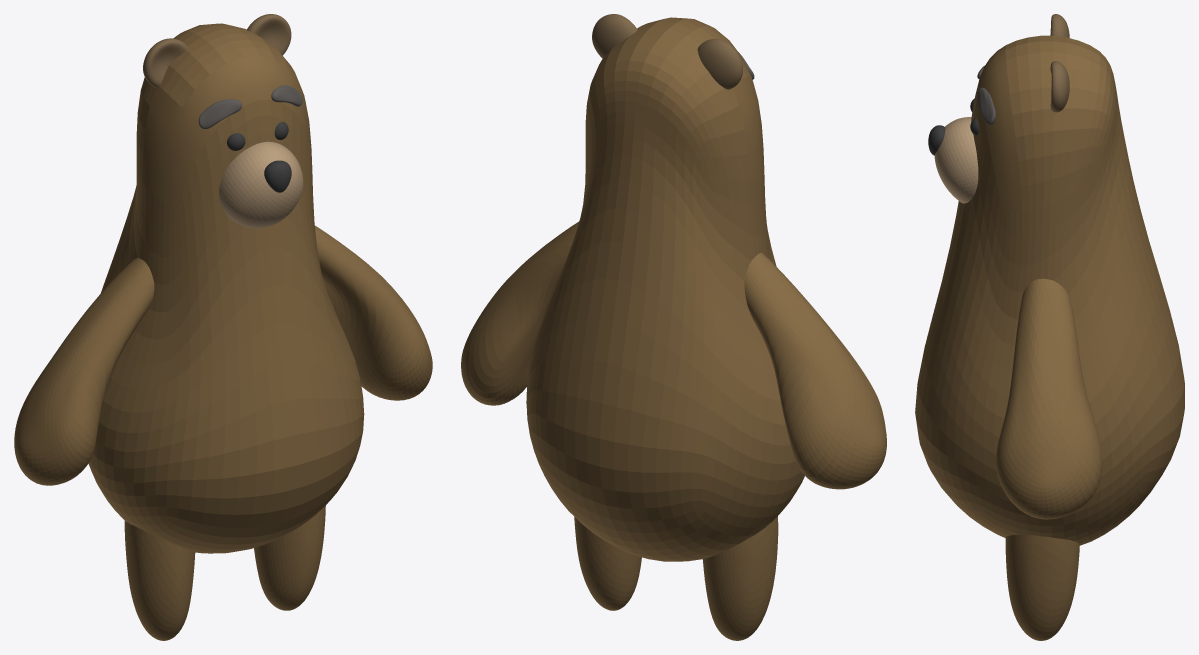
File: teddy.fbx
3 renders of one model, left to right at view 1: azimuth 30°, elevation 25°; view 2: azimuth 150°, elevation 25°; view 3: azimuth 270°, elevation 25°, orthographic. The views are drawn at different scales.
Parts seen in each view (by area): view 1: Group64236, Group57685, Group57671, Group57678, Group31999, Group64237, Group57668, Group57677, Group56073, Group294, Group57679, Group57676 (+8 smaller); view 2: Group64236, Group57671, Group57685, Group57682, Group57674, Group57683, Group64237, Group57675, Group57689, Group57670, Group57681, Group57684 (+7 smaller); view 3: Group57671, Group64236, Group57685, Group57672, Group57673, Group57681, Group64237, Group57679, Group57668, Group57669, Group294, Group56073 (+11 smaller).
Boxes of the visible parts, x1,y1,x2,y2 form: Group64236: (14,225,432,485); Group57685: (88,401,362,553); Group57671: (129,79,321,400); Group57678: (223,323,340,478); Group31999: (216,203,321,360); Group64237: (124,505,325,640); Group57668: (142,55,312,209); Group57677: (132,298,225,480); Group56073: (219,141,303,228); Group294: (159,28,297,107); Group57679: (321,338,364,449); Group57676: (103,253,155,412); Group64236: (461,221,886,489); Group57671: (581,60,776,280); Group57685: (527,413,804,534); Group57682: (554,278,671,448); Group57674: (573,155,675,311); Group57683: (657,312,752,474); Group64237: (574,516,778,640); Group57675: (671,190,751,388); Group57689: (543,470,729,555); Group57670: (595,26,723,103); Group57681: (526,288,573,423); Group57684: (748,389,801,480); Group57671: (971,52,1124,319); Group64236: (996,278,1102,519); Group57685: (915,383,1184,537); Group57672: (948,217,1015,418); Group57673: (1077,181,1141,390); Group57681: (1101,289,1173,468); Group64237: (1005,534,1079,640); Group57679: (931,335,1004,486); Group57668: (978,45,1022,212); Group57669: (1012,109,1053,211); Group294: (1005,35,1053,114); Group56073: (934,117,978,203).
Bounding box in the file's own units: 1.05 × 1.46 × 0.6255.
